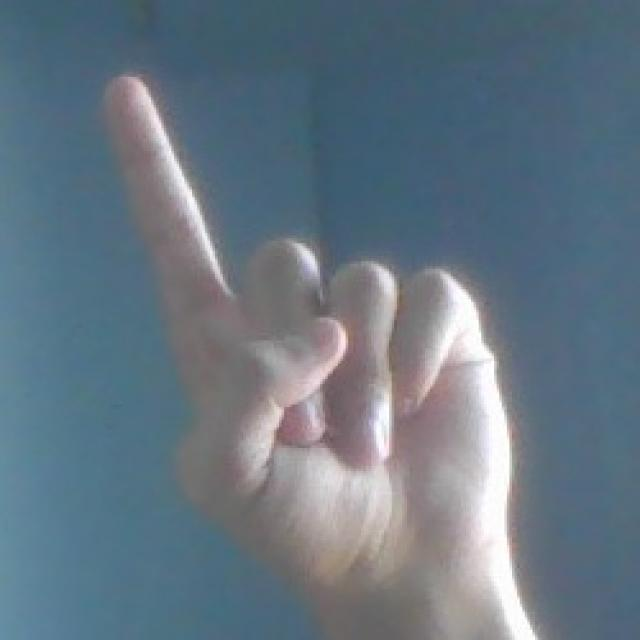Numeric-1: (99, 73, 512, 611)
